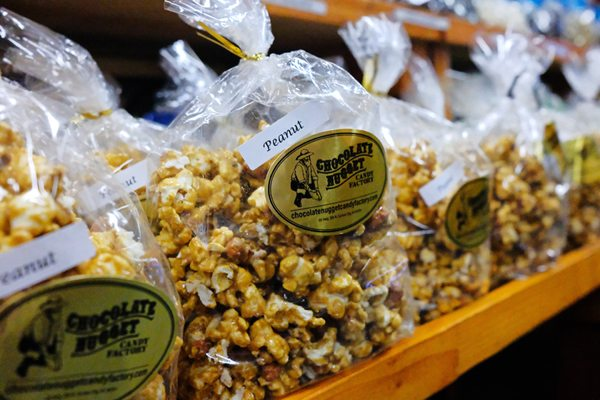burger: (0, 4, 186, 395)
